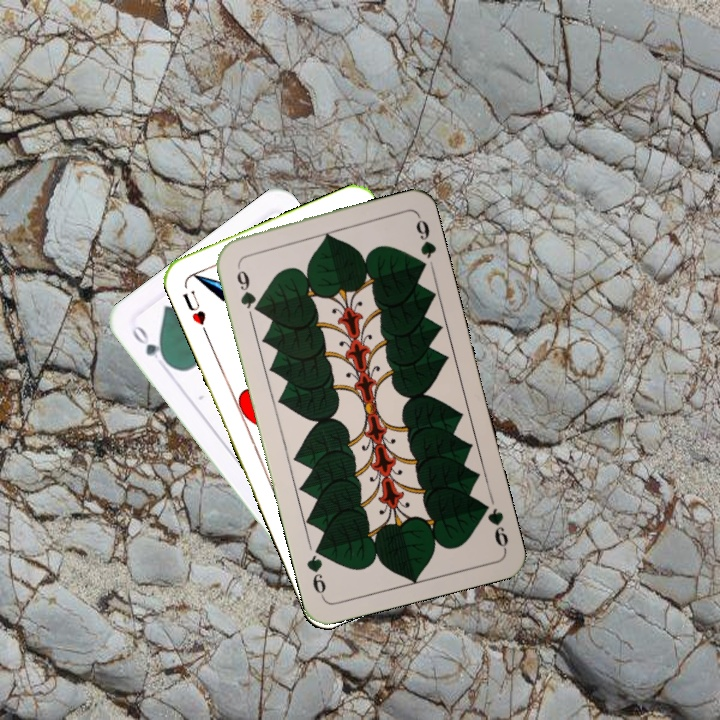G9: (476, 497, 511, 552), (232, 260, 263, 316)
GO: (127, 321, 173, 368)
HU: (178, 286, 211, 338)
